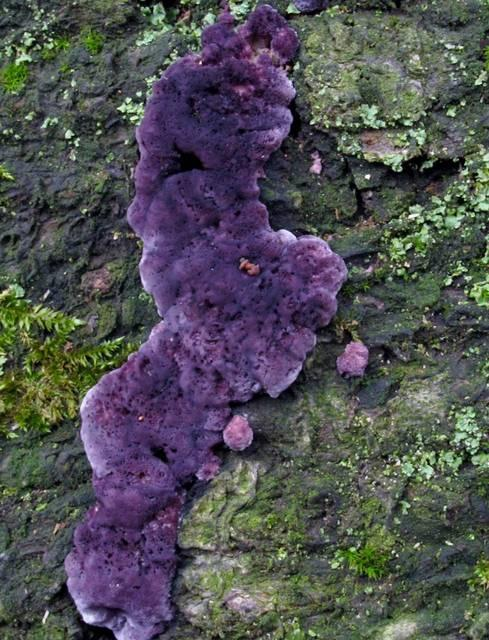Non-edible Mushroom: (62, 3, 349, 639)
